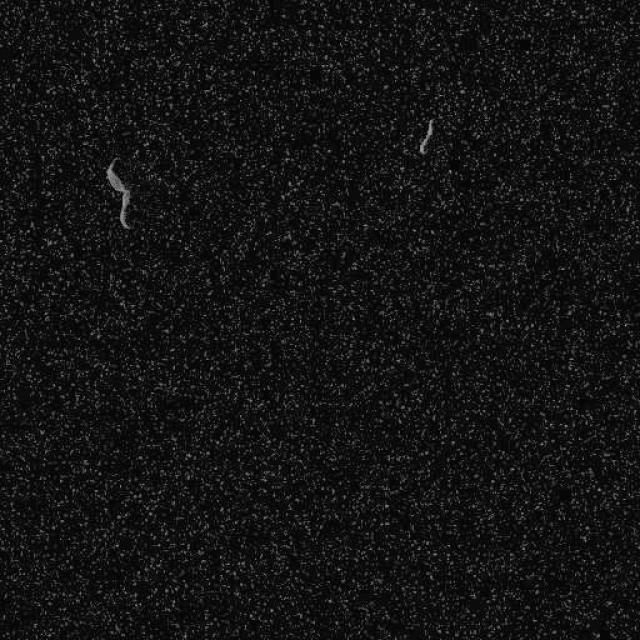D2: (104, 156, 131, 230), (416, 117, 435, 155)
